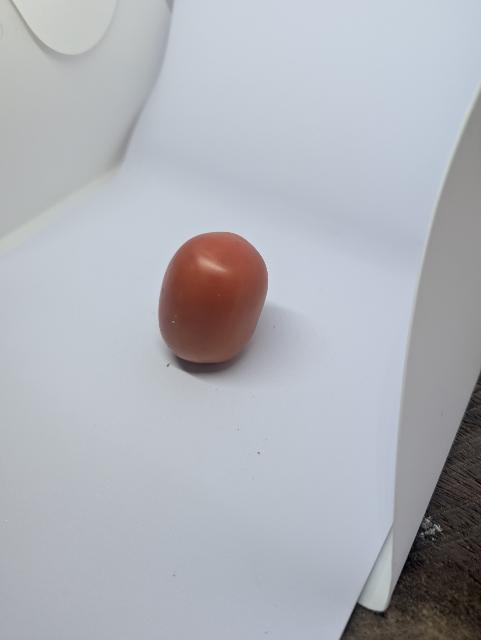red: (155, 225, 275, 377)
